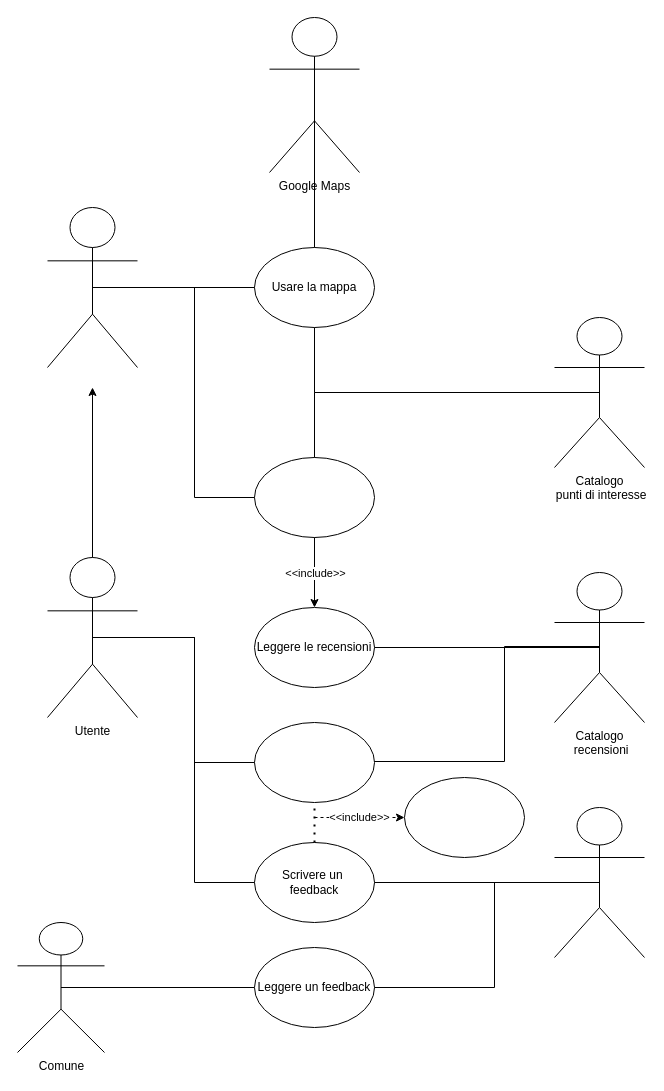
The diagram is 664 pixels wide and 1091 high, and some of its shapes have lost their labels. Each missing label, with the centre of its shape:
"Catalogo feedback" belongs at point 599,882.
"esaminare un punto" belongs at point 314,497.
"Scrivere una recensione" belongs at point 314,762.
"Utente anonimo" belongs at point 92,287.
"verificare l'id dell'utente e dell'oggetto da recensire" belongs at point 464,817.
